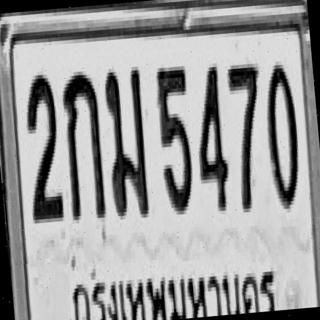A01: (59, 68, 107, 222)
A33: (100, 63, 152, 220)
N00: (261, 60, 303, 210)
N02: (20, 70, 64, 220)
N04: (190, 63, 232, 212)
N05: (153, 62, 197, 215)
N07: (226, 59, 270, 212)
P04: (61, 245, 282, 320)
